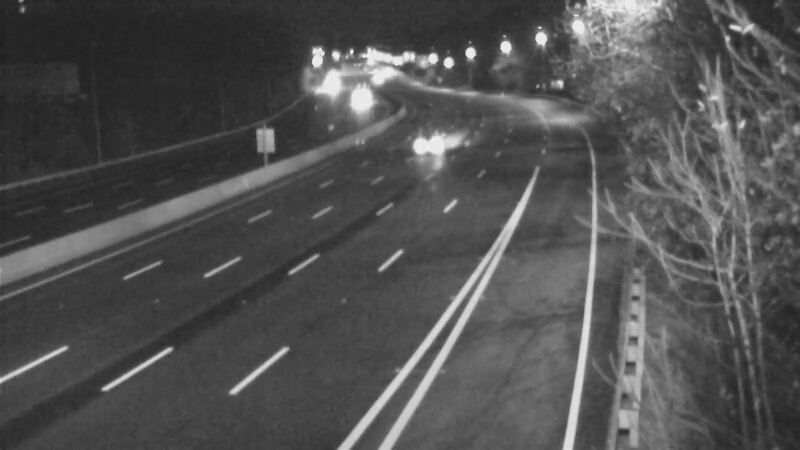vehicle: (406, 123, 456, 173), (331, 75, 381, 125), (306, 56, 356, 106)
